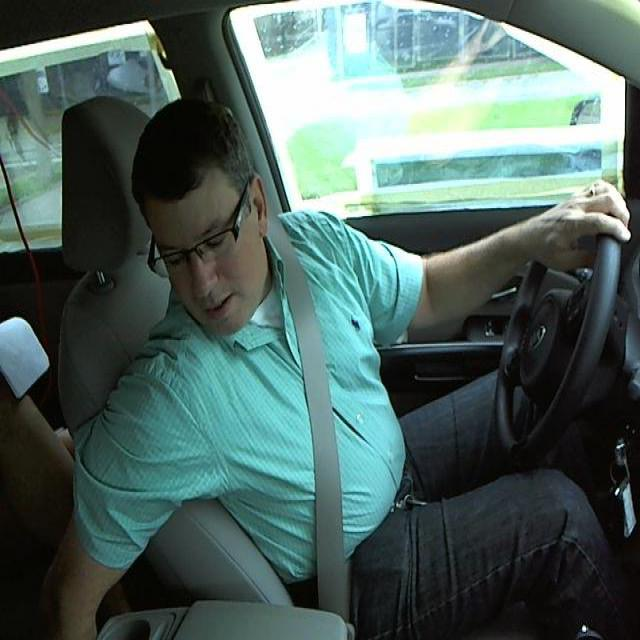seatbelt: (265, 246, 370, 622)
